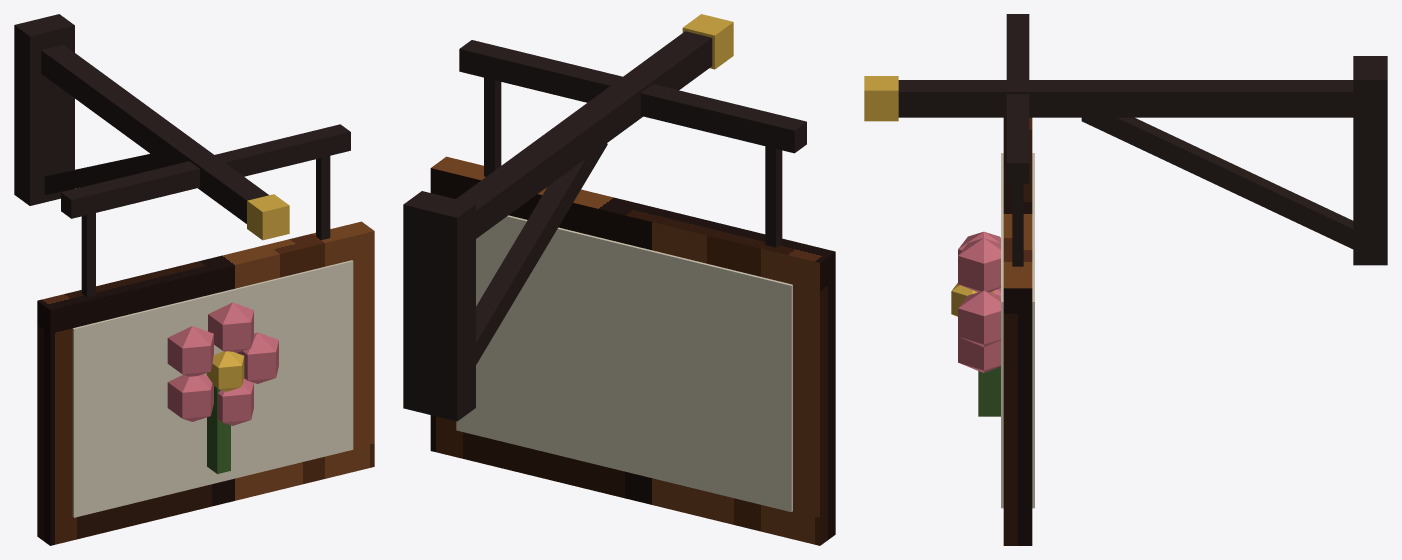
Rendered from hanging_sign_flower.glb.
3 renders of one model, left to right at view 1: azimuth 30°, elevation 25°; view 2: azimuth 150°, elevation 25°; view 3: azimuth 270°, elevation 25°, orthographic. The views are drawn at different scales.
Parts seen in each view (by area): view 1: hanging_sign_flower; view 2: hanging_sign_flower; view 3: hanging_sign_flower.
Boxes of the visible parts, bbox=[...] form: hanging_sign_flower: bbox=[14, 14, 374, 545]; hanging_sign_flower: bbox=[403, 14, 835, 545]; hanging_sign_flower: bbox=[864, 14, 1387, 545].
Bounding box in the file's own units: 0.72 × 0.76 × 0.92.
Materials: 2 (1 with a texture image).
